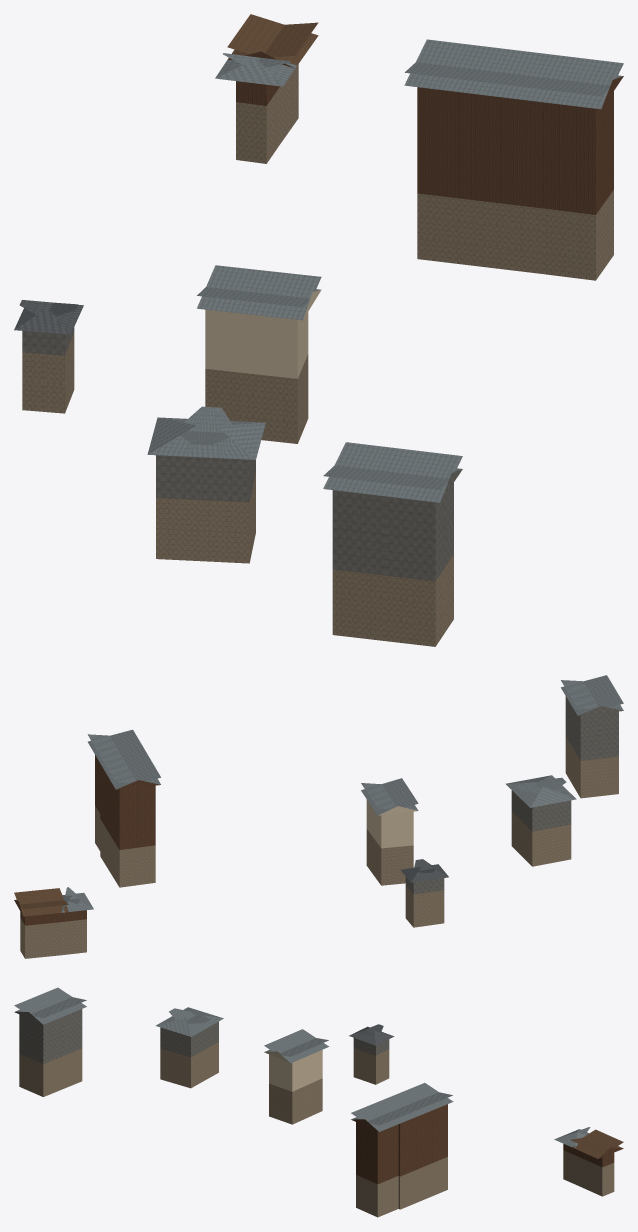
File: bld_c15_37_409.gltf
The picture shows the model from 3 angles, top to bottom: view 1: azimuth 30°, elevation 25°; view 2: azimuth 150°, elevation 25°; view 3: azimuth 270°, elevation 25°; orthographic projection. The views are drawn at different scales.
Parts seen in each view (by area): view 1: bld_c15_37_409; view 2: bld_c15_37_409; view 3: bld_c15_37_409.
Part boxes in pixels (bbox=[...]): bld_c15_37_409: bbox=[14, 14, 623, 646]; bld_c15_37_409: bbox=[14, 675, 623, 958]; bld_c15_37_409: bbox=[14, 987, 623, 1217].
Bounding box in the file's own units: 54.17 × 15.3 × 85.22.
Materials: 10 (10 with a texture image).
